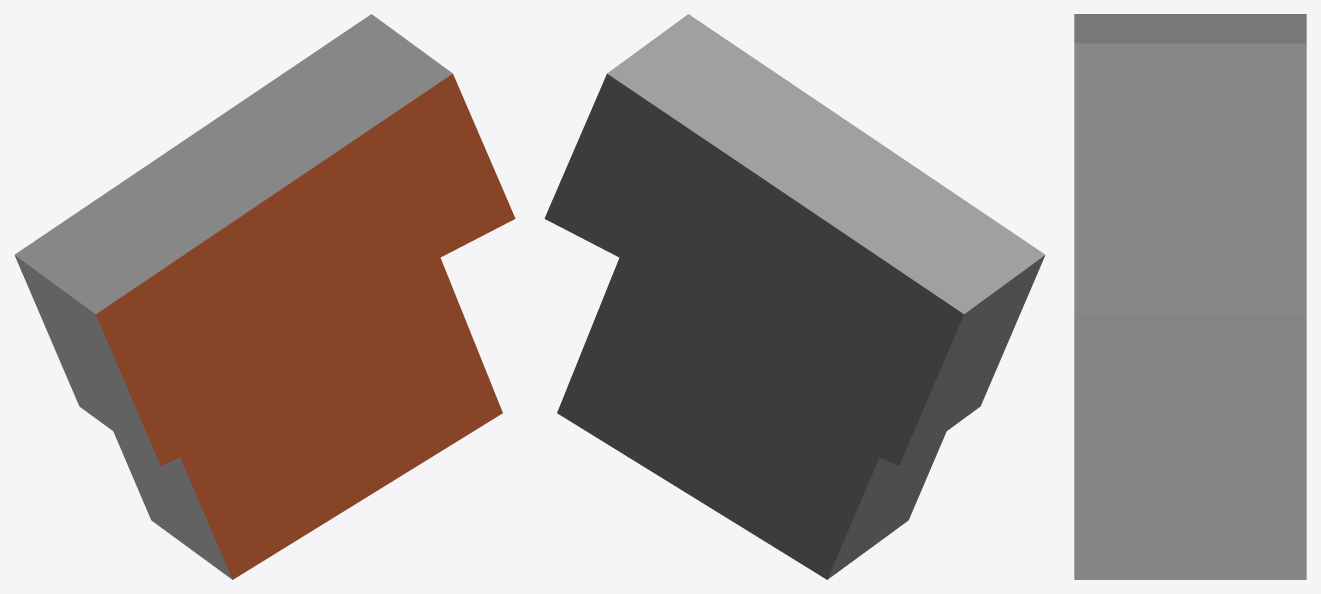
File: construction_5618_assumed_A_Casa_h6m.obj
The picture shows the model from 3 angles, left to right: view 1: azimuth 30°, elevation 25°; view 2: azimuth 150°, elevation 25°; view 3: azimuth 270°, elevation 25°; orthographic projection. The views are drawn at different scales.
Parts seen in each view (by area): view 1: construction_5618_assumed_A_Casa; view 2: construction_5618_assumed_A_Casa; view 3: construction_5618_assumed_A_Casa.
Boxes of the visible parts, x1,y1,x2,y2 form: construction_5618_assumed_A_Casa: (14, 14, 515, 579); construction_5618_assumed_A_Casa: (544, 14, 1045, 579); construction_5618_assumed_A_Casa: (1074, 14, 1306, 579).
Size of the model in its own units: 17.86 by 18.41 by 6.
